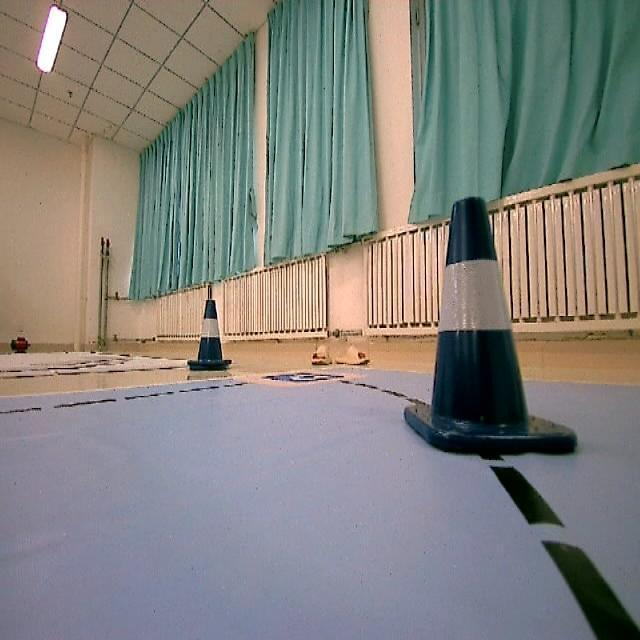obstacle: (398, 189, 592, 471), (184, 292, 236, 389)
